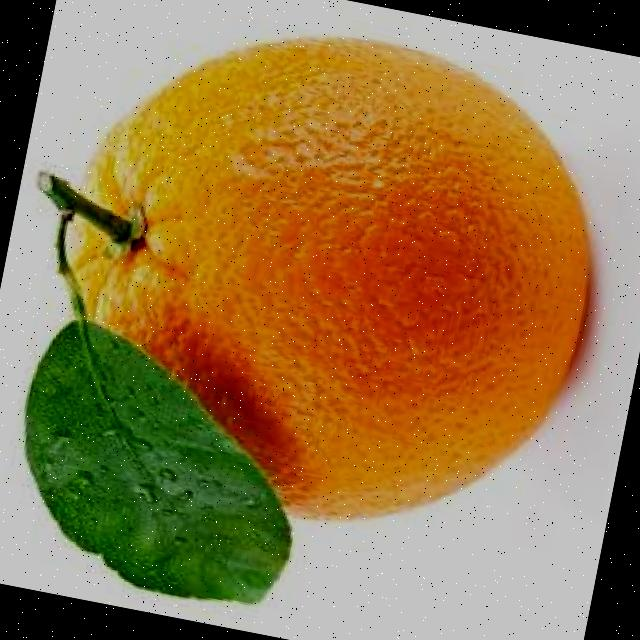orange: (29, 0, 632, 565)
